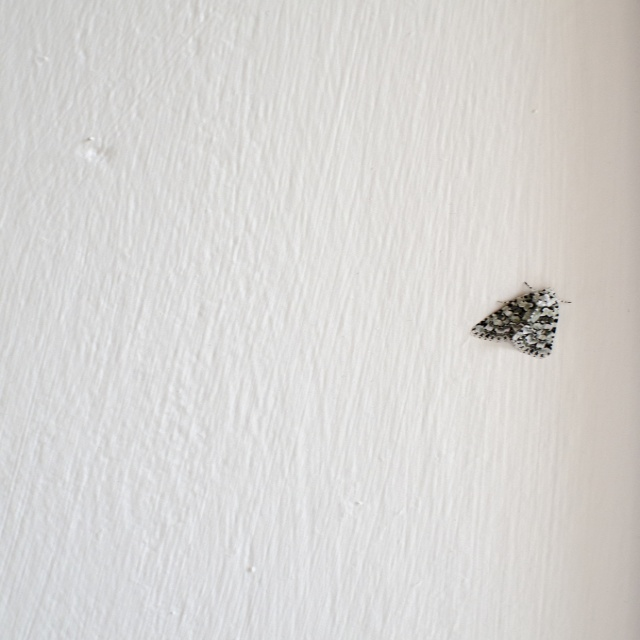Butterfly: (471, 281, 574, 356)
